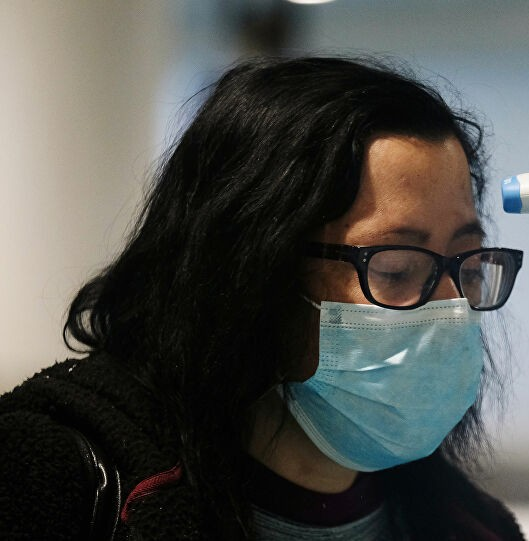with_mask: (279, 119, 527, 477)
